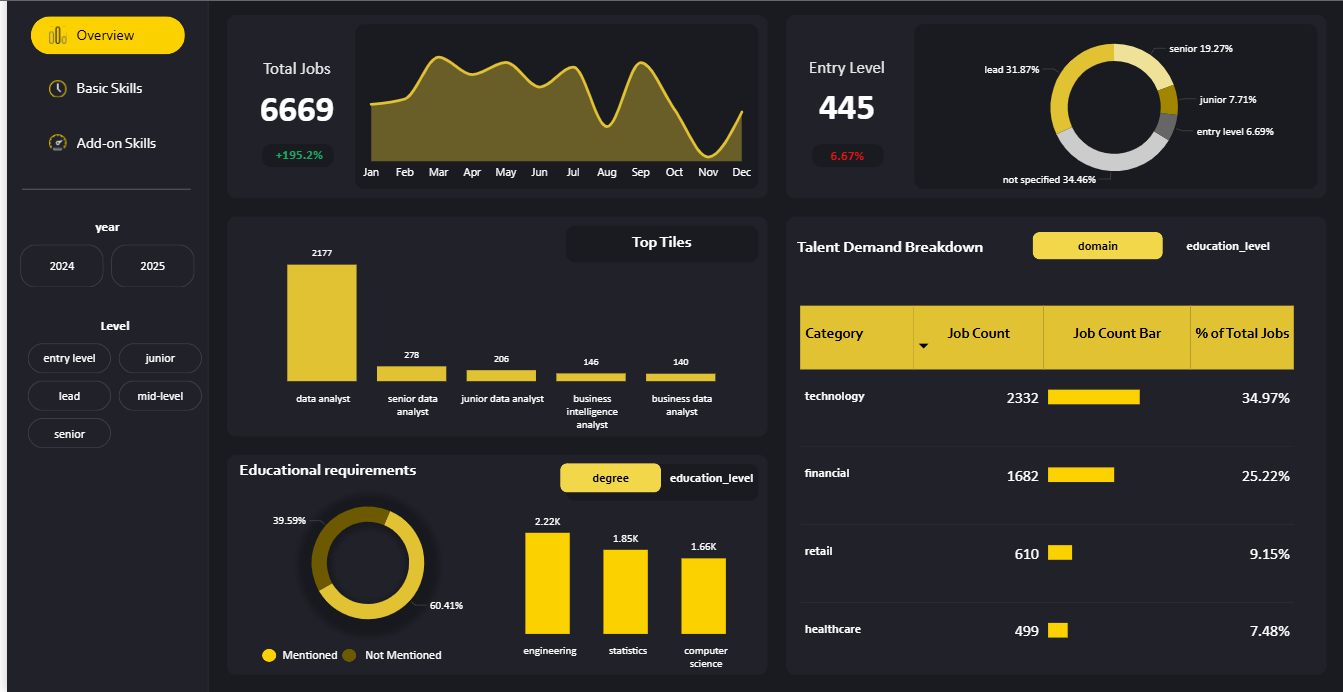

Layout of this report page (visuals, bound fields, positions):
{"tool":"powerbi","page":{"name":"Overview","canvas":[1460,800],"ordinal":0},"visuals":[{"type":"shape","box":[283.2,744.6,93.9,27.4],"z":0,"group":"g1"},{"type":"cardVisual","fields":{"Data":["Measures (3).Total Jobs"]},"box":[212.3,77.1,207.9,136.7],"z":0},{"type":"shape","box":[357.6,741.7,150.4,31.7],"z":1000,"group":"g1"},{"type":"shape","box":[278.6,200.2,78.5,25.8],"z":1000},{"type":"shape","box":[278.1,751.6,15.7,14.5],"z":2000,"group":"g1"},{"type":"card","fields":{"Values":["Measures (3).Total Jobs - Avg MoM Change (Last 12 Months)"]},"box":[274.8,196.3,87.3,34.9],"z":2000},{"type":"shape","box":[365.8,751.6,15.7,14.5],"z":3000,"group":"g1"},{"type":"cardVisual","fields":{"Data":["Measures (3).Entry Level Job Mentions"]},"box":[812,76.9,207.9,136.7],"z":3000},{"type":"shape","box":[878.2,200,78.5,25.8],"z":4000},{"type":"card","fields":{"Values":["Measures (3).% Entry Level Jobs"]},"box":[874.2,197.5,85.8,34.2],"z":5000},{"type":"pivotTable","fields":{"Rows":["dim_skills.skill_name"],"Values":["Measures (3).Job Count","Measures (3).Job Count Bar","Measures (3).Domain % of Total Jobs"]},"box":[860.9,372.5,560.3,427.3],"z":6000},{"type":"donutChart","fields":{"Y":["EducationMentionStatus.Education Mention Split"],"Category":["EducationMentionStatus.Mention Status"]},"box":[281.7,565,223.3,186.7],"z":7000},{"type":"group","id":"g1","title":"Group 1","box":[278.1,741.7,230.4,31.4],"z":8000},{"type":"columnChart","fields":{"Y":["Measures (3).Selected Education Skill Mentions"],"Category":["dim_skills.skill_name"]},"box":[508,586,320,197],"z":9000},{"type":"advancedSlicerVisual","fields":{"Values":["EducationTypeSlicer.Education Type"]},"box":[599,544,230,42],"z":10000},{"type":"clusteredColumnChart","fields":{"Category":["dim_title.title"],"Y":["Count(fact_jobs.job_id)"]},"box":[247.3,297.4,572.9,225.4],"z":11000},{"type":"advancedSlicerVisual","fields":{"Values":["dim_category.category_name"]},"box":[1114.4,291.2,295.1,40.8],"z":12000},{"type":"actionButton","box":[25.8,120.3,167.6,40.6],"z":13000},{"type":"advancedSlicerVisual","fields":{"Values":["dim_dates.year"]},"box":[9.4,281.7,200.3,79.8],"z":14000},{"type":"advancedSlicerVisual","fields":{"Values":["dim_senority_level.seniority_level"]},"box":[17.2,389.7,200.3,150.3],"z":15000},{"type":"shape","box":[16.9,239.6,184.1,20.3],"z":16000},{"type":"shape","box":[237.4,0,276.8,40.6],"z":17000},{"type":"shape","box":[253.9,539.6,347.9,30.5],"z":18000},{"type":"shape","box":[861.4,297.1,222.9,30],"z":19000},{"type":"actionButton","box":[25.8,61.7,168.3,41.7],"z":20000},{"type":"actionButton","box":[25.8,178.3,167.5,40.8],"z":21000},{"type":"donutChart","fields":{"Y":["CountNonNull(fact_jobs.job_id)"],"Category":["dim_senority_level.seniority_level"]},"box":[991.7,66.7,433.3,188.3],"z":22000},{"type":"areaChart","fields":{"Category":["dim_dates.full_date Hierarchy.Short Month"],"Y":["Measures (3).Total Jobs"]},"box":[377.5,72.5,443.8,177.5],"z":23000},{"type":"shape","box":[634.3,291.4,160,30],"z":24000}]}

Visuals, with their boxes on the page's 1460x800 design canvas (x1, y1, x2, y2). These are canvas units, not pixel positions in the 1343x692 screenshot, which may show the page scaled, cropped or inside an application window:
shape: 283 745 377 772
cardVisual - Measures (3).Total Jobs: 212 77 420 214
shape: 358 742 508 773
shape: 279 200 357 226
shape: 278 752 294 766
card - Measures (3).Total Jobs - Avg MoM Change (Last 12 Months): 275 196 362 231
shape: 366 752 382 766
cardVisual - Measures (3).Entry Level Job Mentions: 812 77 1020 214
shape: 878 200 957 226
card - Measures (3).% Entry Level Jobs: 874 198 960 232
pivotTable - dim_skills.skill_name x Measures (3).Job Count: 861 372 1421 800
donutChart - EducationMentionStatus.Education Mention Split x EducationMentionStatus.Mention Status: 282 565 505 752
"Group 1" group: 278 742 508 773
columnChart - Measures (3).Selected Education Skill Mentions x dim_skills.skill_name: 508 586 828 783
advancedSlicerVisual - EducationTypeSlicer.Education Type: 599 544 829 586
clusteredColumnChart - dim_title.title x Count(fact_jobs.job_id): 247 297 820 523
advancedSlicerVisual - dim_category.category_name: 1114 291 1410 332
actionButton: 26 120 193 161
advancedSlicerVisual - dim_dates.year: 9 282 210 362
advancedSlicerVisual - dim_senority_level.seniority_level: 17 390 218 540
shape: 17 240 201 260
shape: 237 0 514 41
shape: 254 540 602 570
shape: 861 297 1084 327
actionButton: 26 62 194 103
actionButton: 26 178 193 219
donutChart - CountNonNull(fact_jobs.job_id) x dim_senority_level.seniority_level: 992 67 1425 255
areaChart - dim_dates.full_date Hierarchy.Short Month x Measures (3).Total Jobs: 378 72 821 250
shape: 634 291 794 321
